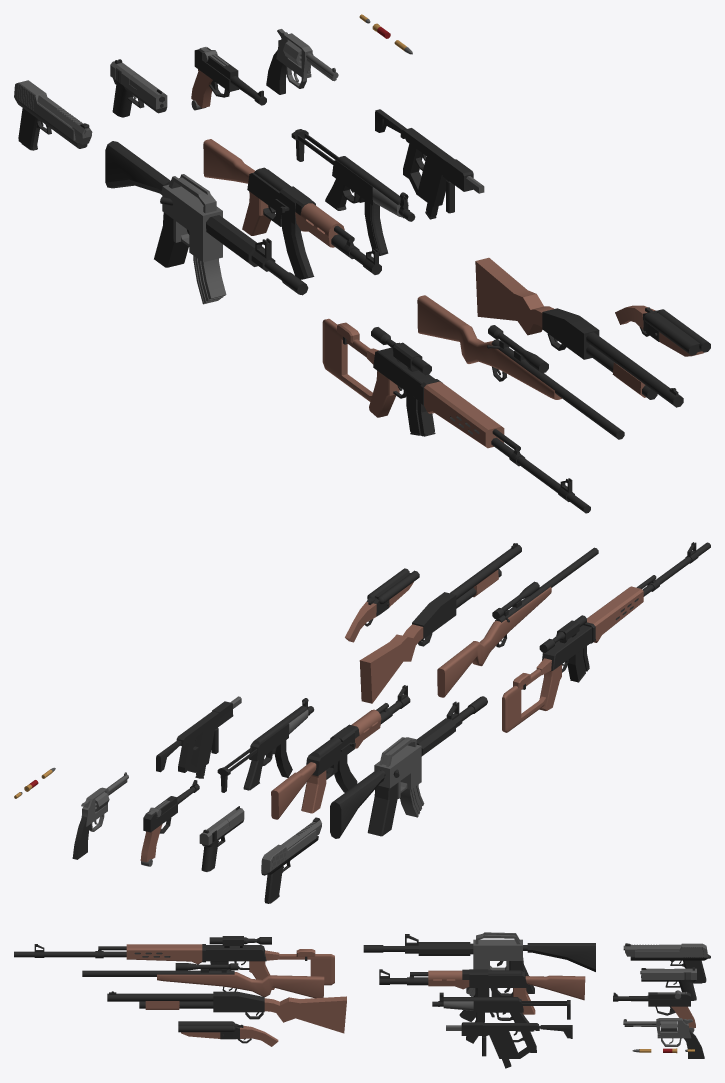
Rendered from Low Poly Guns 1.fbx.
3 renders of one model, top to bottom at view 1: azimuth 30°, elevation 25°; view 2: azimuth 150°, elevation 25°; view 3: azimuth 270°, elevation 25°, orthographic. The views are drawn at different scales.
Visible parts, largest first — view 1: Dragunov SVD Body, M16 Body, Pump Action Shotgun Body, AK47 Body, M40 Body, Kriss Vector Body, MP5 Body, Lugar Body, Revolver Body, Desert Eagle Handgun Body, Sawed-Off Shotgun Body.001, Desert Eagle Handgun Body.001 (+7 smaller); view 2: Dragunov SVD Body, M16 Body, Pump Action Shotgun Body, AK47 Body, M40 Body, Kriss Vector Body, MP5 Body, Lugar Body, Revolver Body, Desert Eagle Handgun Body, Sawed-Off Shotgun Body.001, Sawed-Off Shotgun Body (+3 smaller); view 3: Dragunov SVD Body, M16 Body, Pump Action Shotgun Body, AK47 Body, M40 Body, Kriss Vector Body, MP5 Body, Revolver Body, Desert Eagle Handgun Body, Lugar Body, Sawed-Off Shotgun Body.001, Desert Eagle Handgun Body.001 (+5 smaller).
Part boxes in pixels (x1=…): Dragunov SVD Body: x1=322, y1=318, x2=590, y2=513; M16 Body: x1=105, y1=141, x2=308, y2=295; Pump Action Shotgun Body: x1=475, y1=257, x2=683, y2=407; AK47 Body: x1=203, y1=139, x2=381, y2=274; M40 Body: x1=417, y1=295, x2=624, y2=439; Kriss Vector Body: x1=375, y1=109, x2=484, y2=213; MP5 Body: x1=291, y1=129, x2=415, y2=221; Lugar Body: x1=191, y1=47, x2=266, y2=108; Revolver Body: x1=266, y1=33, x2=338, y2=94; Desert Eagle Handgun Body: x1=14, y1=94, x2=92, y2=150; Sawed-Off Shotgun Body.001: x1=644, y1=309, x2=710, y2=356; Desert Eagle Handgun Body.001: x1=14, y1=80, x2=75, y2=140; Dragunov SVD Body: x1=502, y1=542, x2=710, y2=732; M16 Body: x1=330, y1=696, x2=487, y2=838; Pump Action Shotgun Body: x1=359, y1=543, x2=521, y2=703; AK47 Body: x1=271, y1=685, x2=410, y2=819; M40 Body: x1=437, y1=547, x2=598, y2=697; Kriss Vector Body: x1=156, y1=696, x2=241, y2=772; MP5 Body: x1=217, y1=698, x2=314, y2=792; Lugar Body: x1=140, y1=780, x2=199, y2=862; Revolver Body: x1=72, y1=772, x2=128, y2=859; Desert Eagle Handgun Body: x1=261, y1=817, x2=321, y2=903; Sawed-Off Shotgun Body.001: x1=370, y1=568, x2=419, y2=606; Sawed-Off Shotgun Body: x1=345, y1=593, x2=389, y2=642; Dragunov SVD Body: x1=14, y1=936, x2=334, y2=989; M16 Body: x1=363, y1=932, x2=595, y2=993; Pump Action Shotgun Body: x1=107, y1=991, x2=346, y2=1033; AK47 Body: x1=379, y1=969, x2=585, y2=1014; M40 Body: x1=82, y1=963, x2=324, y2=998; Kriss Vector Body: x1=446, y1=1022, x2=572, y2=1058; MP5 Body: x1=432, y1=992, x2=570, y2=1031; Revolver Body: x1=623, y1=1018, x2=704, y2=1058; Desert Eagle Handgun Body: x1=623, y1=943, x2=710, y2=982; Lugar Body: x1=613, y1=992, x2=695, y2=1028; Sawed-Off Shotgun Body.001: x1=178, y1=1021, x2=232, y2=1038; Desert Eagle Handgun Body.001: x1=635, y1=943, x2=707, y2=957.
Size of the model in its own units: 238 by 68.16 by 672.
